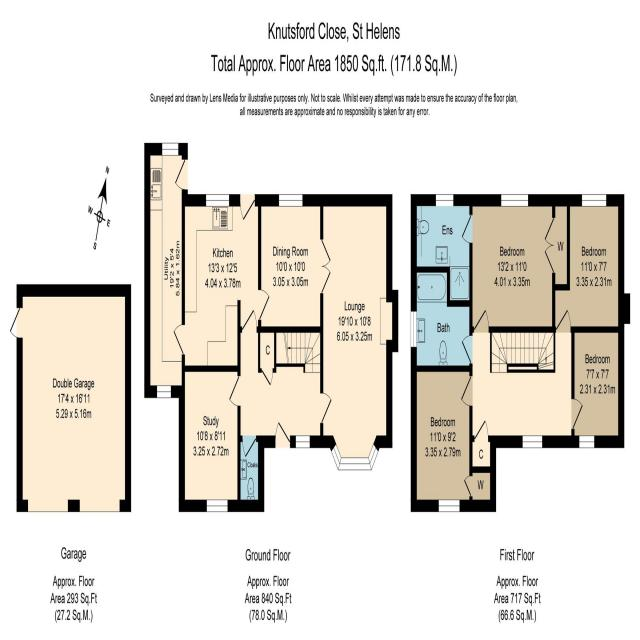DOOR: (227, 373, 241, 407), (274, 420, 291, 448), (239, 194, 256, 222), (174, 158, 188, 191), (571, 397, 584, 430), (460, 375, 473, 407), (173, 323, 185, 357), (241, 308, 257, 333), (473, 308, 489, 333), (555, 308, 571, 333), (241, 435, 257, 459), (320, 392, 332, 424), (258, 289, 270, 321), (461, 334, 473, 365), (461, 214, 473, 244)
DOUBLE DOOR: (320, 238, 331, 294)
ROOM: (320, 194, 399, 471), (173, 193, 270, 372), (461, 194, 570, 333), (144, 142, 188, 398), (258, 194, 331, 333), (552, 193, 624, 333), (178, 365, 241, 513), (410, 365, 473, 512), (571, 326, 624, 448)
WINDOW: (331, 443, 379, 471), (501, 193, 529, 208), (581, 193, 607, 208), (205, 192, 230, 207), (278, 193, 303, 207), (522, 434, 543, 449), (206, 499, 228, 513), (435, 193, 455, 208), (438, 499, 460, 512), (410, 311, 417, 348), (579, 434, 595, 449), (162, 142, 179, 156), (156, 385, 171, 399), (295, 435, 310, 449)
